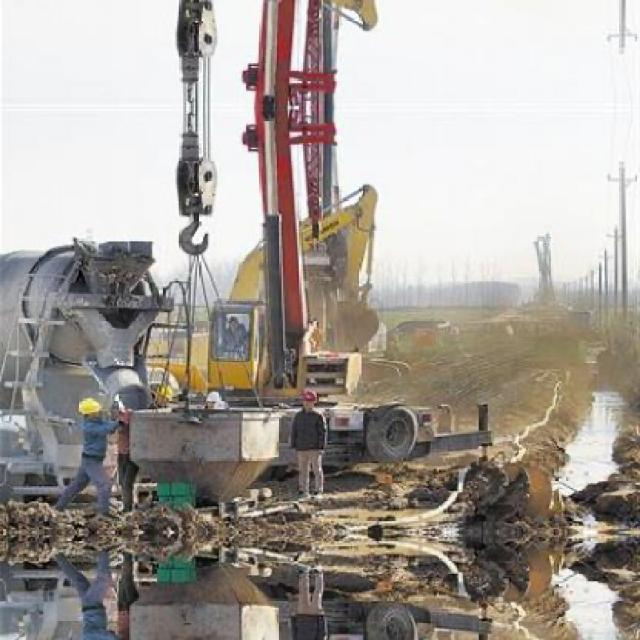helmet: (76, 397, 106, 426), (298, 384, 322, 414)
